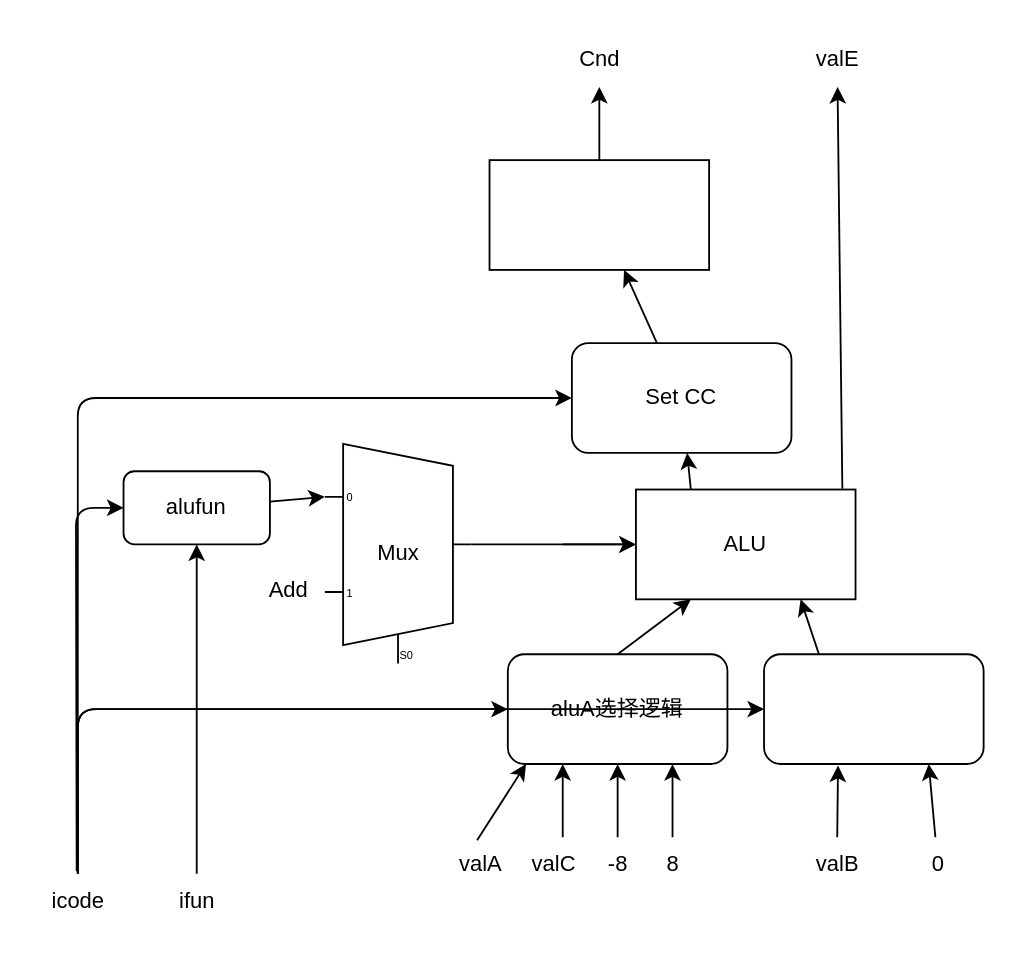
Some shapes in this 1016 by 959 pixel diagram are drawn without their labels. Each missing label, with the box of its shape:
aluB选择逻辑: (762, 652, 984, 764)
cond: (488, 158, 709, 270)
